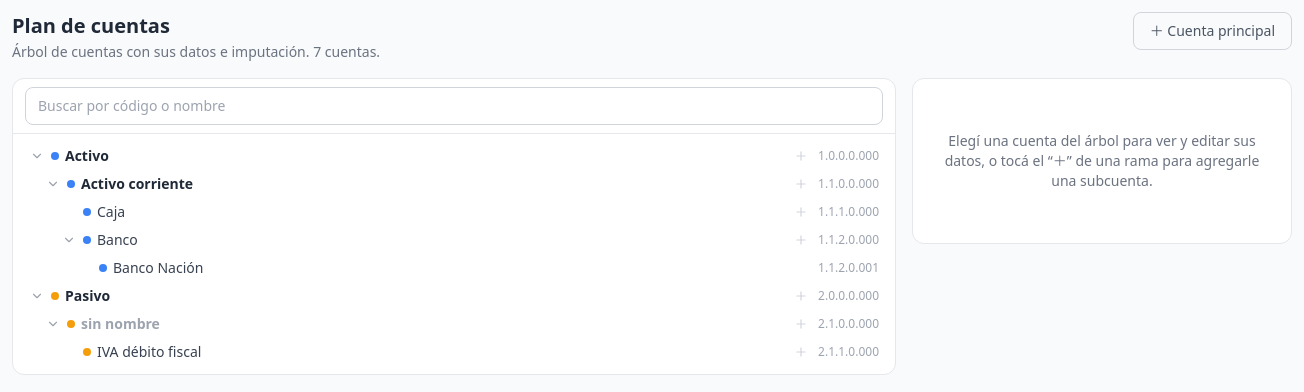
Test: Plan de cuentas › el árbol sigue la máscara: la madre de 1.1.2.0.001 es 1.1.2.0.000
Expected: the text "Banco Nación" is shown, [113,258,203,278]
Step 1. Click the button named "Plegar 1.1.2.0.000" → {"x": 69, "y": 240}, box [61,232,77,248]
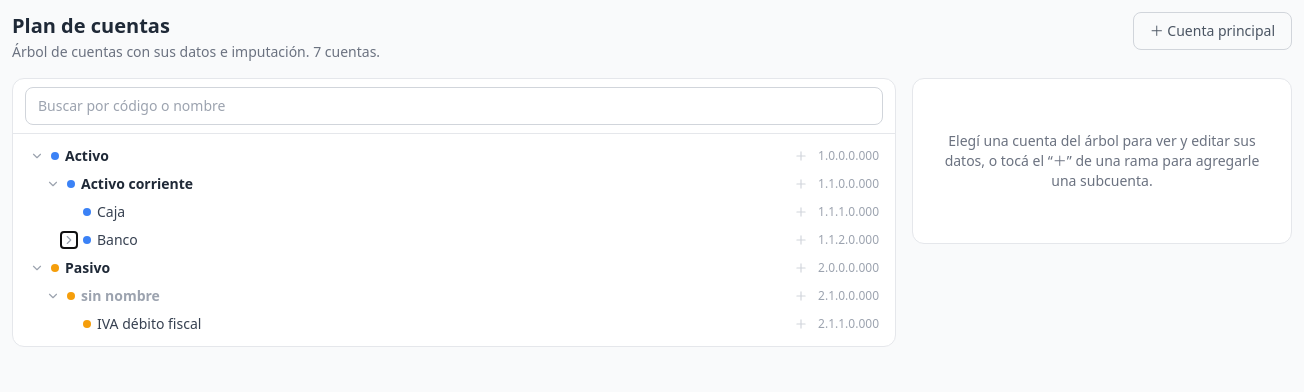
Expected: the text "Caja" is shown, [97,202,125,222]
Now the text "Banco Nación" is gone
